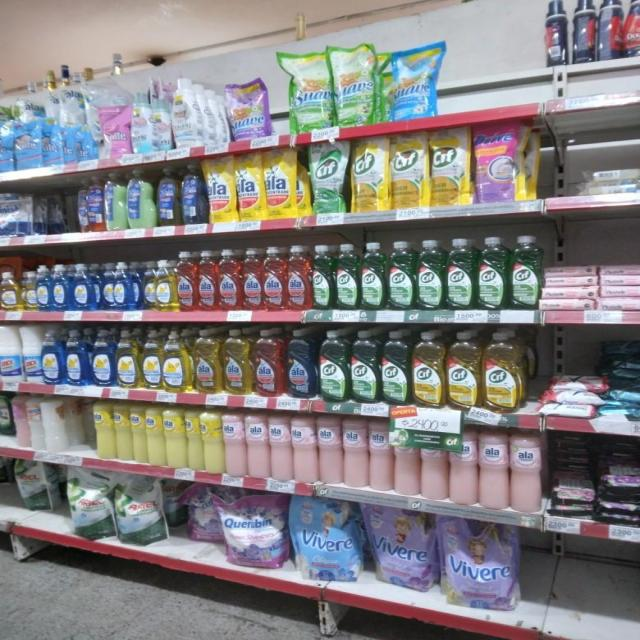ala_conc_amarillo: (223, 328, 251, 396), (193, 328, 221, 394)
ala_conc_azul: (285, 328, 316, 399)
ala_conc_rojo: (253, 328, 284, 398), (286, 244, 311, 310), (263, 246, 285, 310), (218, 248, 240, 310), (176, 250, 197, 312), (242, 247, 262, 311), (198, 250, 217, 311)
ala_crem_amarillo: (95, 400, 114, 460), (114, 403, 131, 461)
ala_crem_rosado: (510, 433, 544, 513), (479, 431, 509, 510), (449, 429, 478, 506), (421, 428, 448, 502), (394, 422, 419, 497), (343, 418, 368, 489), (292, 414, 317, 484), (368, 420, 392, 492), (318, 416, 342, 486), (269, 413, 291, 482), (246, 412, 268, 478), (224, 410, 245, 477)
ala_sachet_amarillo: (266, 147, 298, 219), (205, 154, 236, 223), (237, 151, 264, 220)
cif_conc_bot_amarilla: (483, 330, 525, 412), (446, 330, 481, 410), (412, 330, 445, 408)
cif_conc_botella_verde: (509, 235, 542, 310), (477, 236, 508, 310), (381, 330, 411, 405), (318, 330, 349, 402), (350, 329, 379, 404), (446, 238, 475, 310), (416, 239, 444, 311), (388, 240, 414, 310), (361, 241, 386, 310), (335, 243, 359, 310), (312, 244, 334, 310)
cif_conc_sachet_amarillo: (431, 127, 472, 207), (350, 136, 388, 212), (391, 132, 428, 209)
cif_conc_sachet_verde: (310, 140, 348, 214)
drive: (474, 122, 525, 203)
magistral_con_amarillo: (163, 330, 191, 392), (116, 329, 139, 389), (141, 329, 162, 390), (156, 259, 175, 311), (0, 270, 19, 312), (142, 260, 156, 311), (21, 269, 36, 312)
magistral_con_azul: (104, 261, 135, 311), (91, 328, 115, 387), (65, 328, 89, 386), (42, 328, 64, 385), (72, 263, 96, 311), (51, 264, 70, 312), (36, 264, 52, 312)
